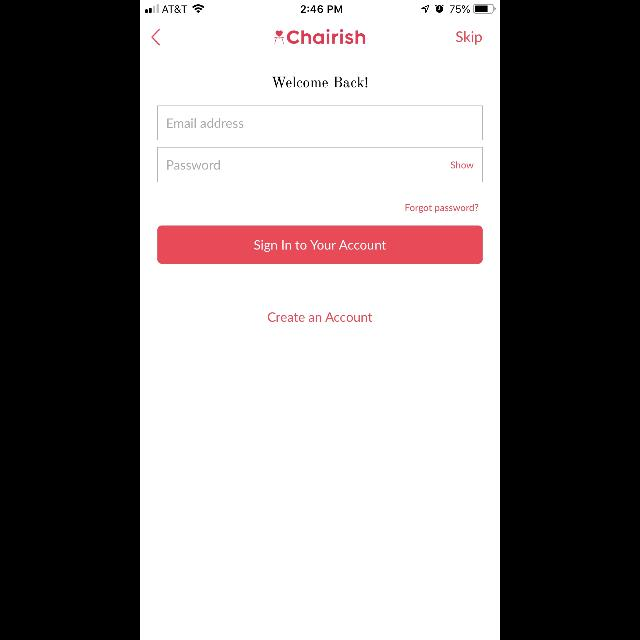icon: (152, 28, 160, 46)
image: (274, 31, 284, 44)
input: (158, 106, 482, 140), (158, 148, 482, 182)
text: (272, 76, 368, 88), (287, 30, 365, 44), (268, 312, 372, 322), (168, 118, 244, 128), (406, 204, 478, 213), (168, 160, 220, 170), (456, 31, 482, 45), (451, 162, 474, 168)
textbutton: (158, 226, 482, 264)
uppertaskbar: (140, 0, 500, 14)
